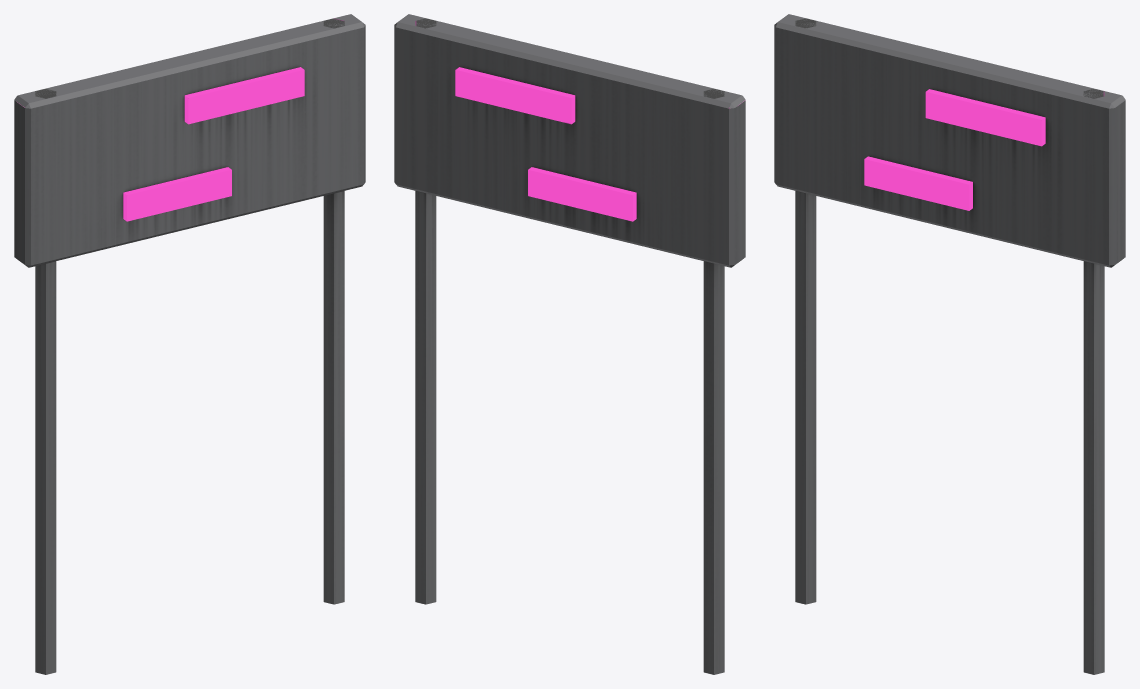
The model's file is nodexeus-set-sign-b.glb.
3 views of the same model, side by side, from view 1: azimuth 30°, elevation 25°; view 2: azimuth 150°, elevation 25°; view 3: azimuth 330°, elevation 25° (orthographic).
Parts seen in each view (by area): view 1: set-sign-b; view 2: set-sign-b; view 3: set-sign-b.
Boxes of the visible parts, x1,y1,x2,y2 form: set-sign-b: (14,14,365,674); set-sign-b: (394,14,745,674); set-sign-b: (774,14,1125,674).
Bounding box in the file's own units: 1.3 × 2.1 × 0.15.
Materials: 1 (1 with a texture image).
